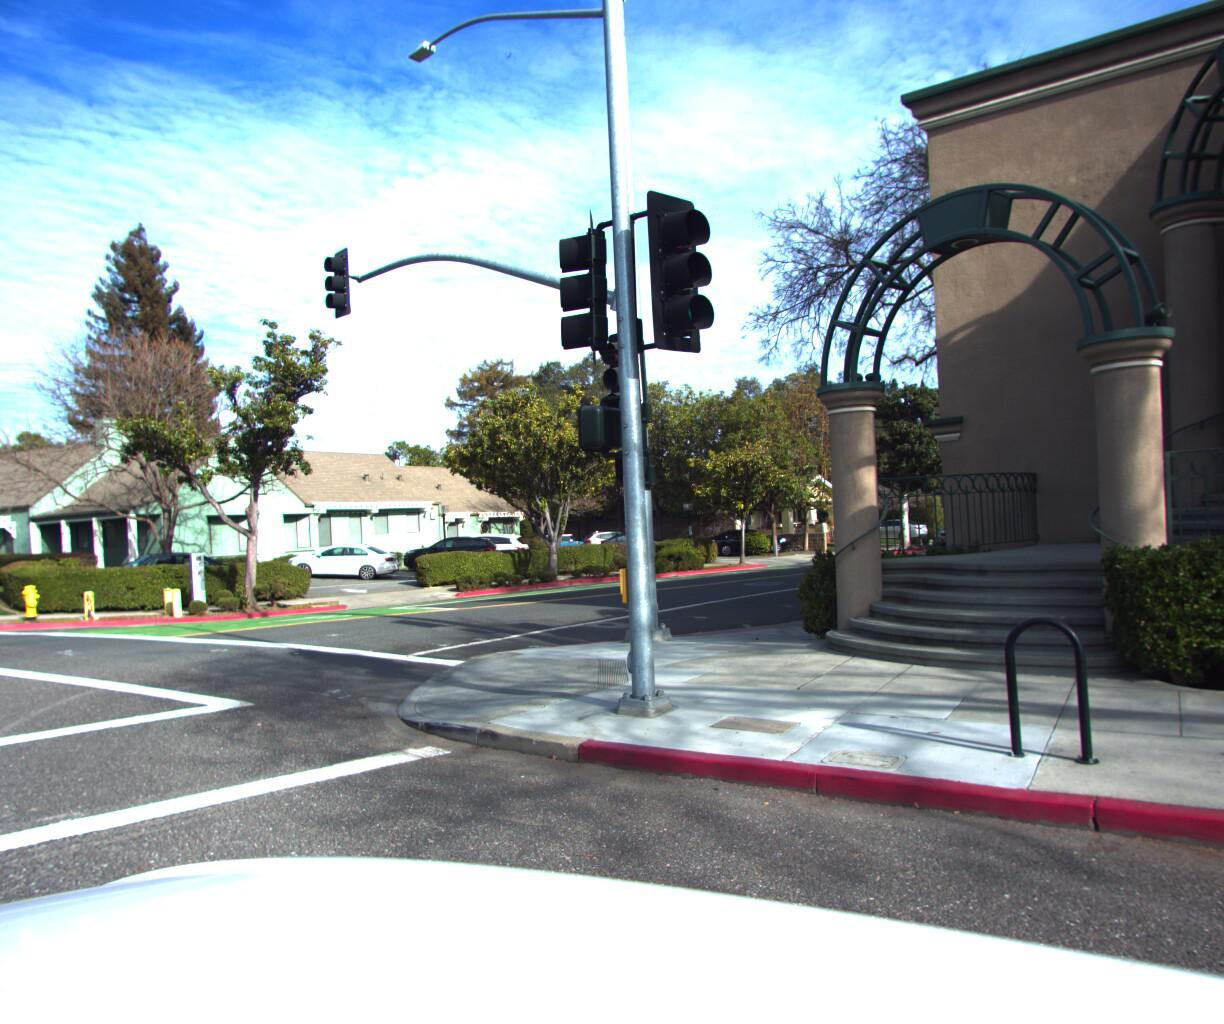car: (75, 542, 246, 603), (278, 534, 405, 578), (402, 527, 504, 567), (442, 523, 532, 564), (700, 521, 790, 552), (597, 523, 672, 554), (579, 523, 653, 552), (542, 524, 612, 553), (852, 510, 929, 535)
